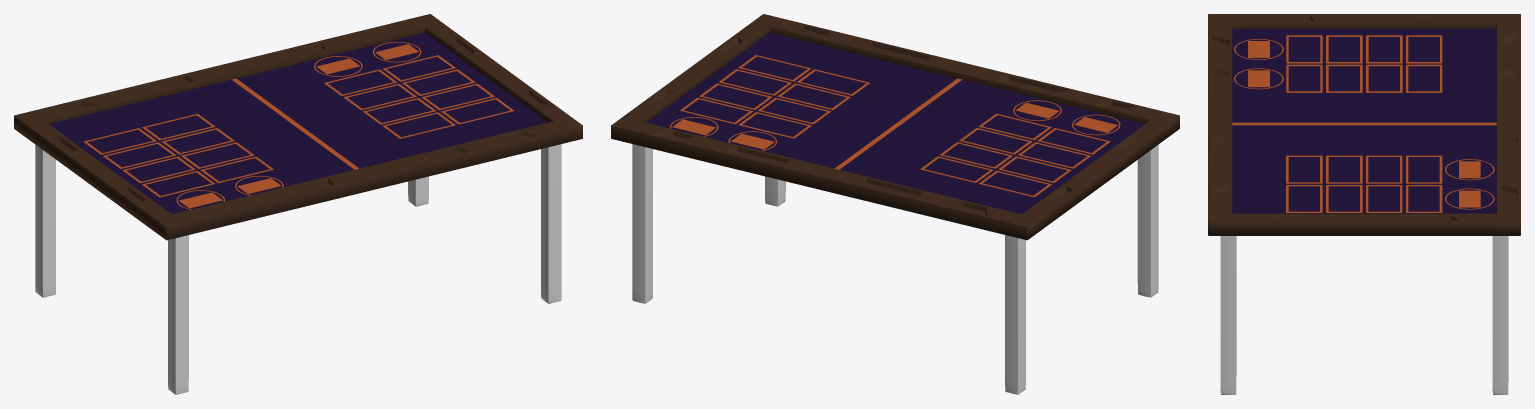
File: Table Asset.fbx
The picture shows the model from 3 angles, left to right: view 1: azimuth 30°, elevation 25°; view 2: azimuth 150°, elevation 25°; view 3: azimuth 270°, elevation 25°; orthographic projection. The views are drawn at different scales.
Parts seen in each view (by area): view 1: Object122, Box457, Box461, Box463; view 2: Object122, Box457, Box461, Box463; view 3: Object122, Box457, Box461, Box463, Object118, Object185, Object187, Object196, Object190, Object192, Object194, Object188 (+12 smaller).
Boxes of the visible parts, bbox=[...] form: Object122: bbox=[49, 32, 547, 214]; Box457: bbox=[14, 14, 582, 240]; Box461: bbox=[35, 144, 561, 394]; Box463: bbox=[232, 78, 358, 169]; Object122: bbox=[646, 32, 1144, 214]; Box457: bbox=[611, 14, 1179, 240]; Box461: bbox=[632, 144, 1158, 394]; Box463: bbox=[835, 78, 961, 169]; Object122: bbox=[1232, 28, 1496, 213]; Box457: bbox=[1208, 14, 1520, 235]; Box461: bbox=[1220, 236, 1508, 394]; Box463: bbox=[1232, 122, 1496, 125]; Object118: bbox=[1459, 161, 1480, 178]; Object185: bbox=[1459, 190, 1480, 207]; Object187: bbox=[1248, 70, 1269, 87]; Object196: bbox=[1248, 41, 1269, 57]; Object190: bbox=[1366, 64, 1402, 92]; Object192: bbox=[1326, 64, 1362, 92]; Object194: bbox=[1286, 64, 1322, 92]; Object188: bbox=[1406, 64, 1442, 92].
Size of the model in its own units: 226 by 91.5 by 144.
